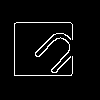U: (25, 25, 83, 84)
